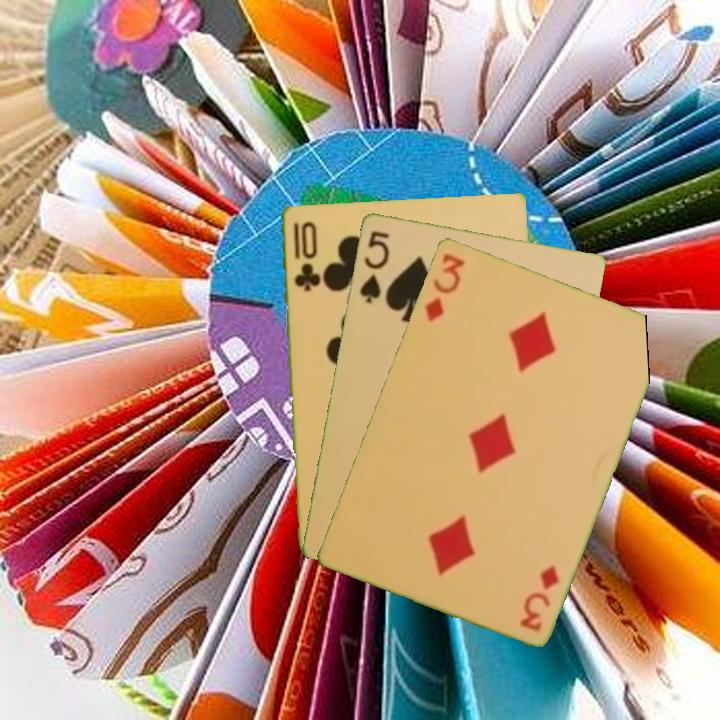10c: (289, 218, 321, 294)
3d: (420, 249, 467, 324), (515, 561, 562, 634)
5s: (355, 226, 392, 306)
